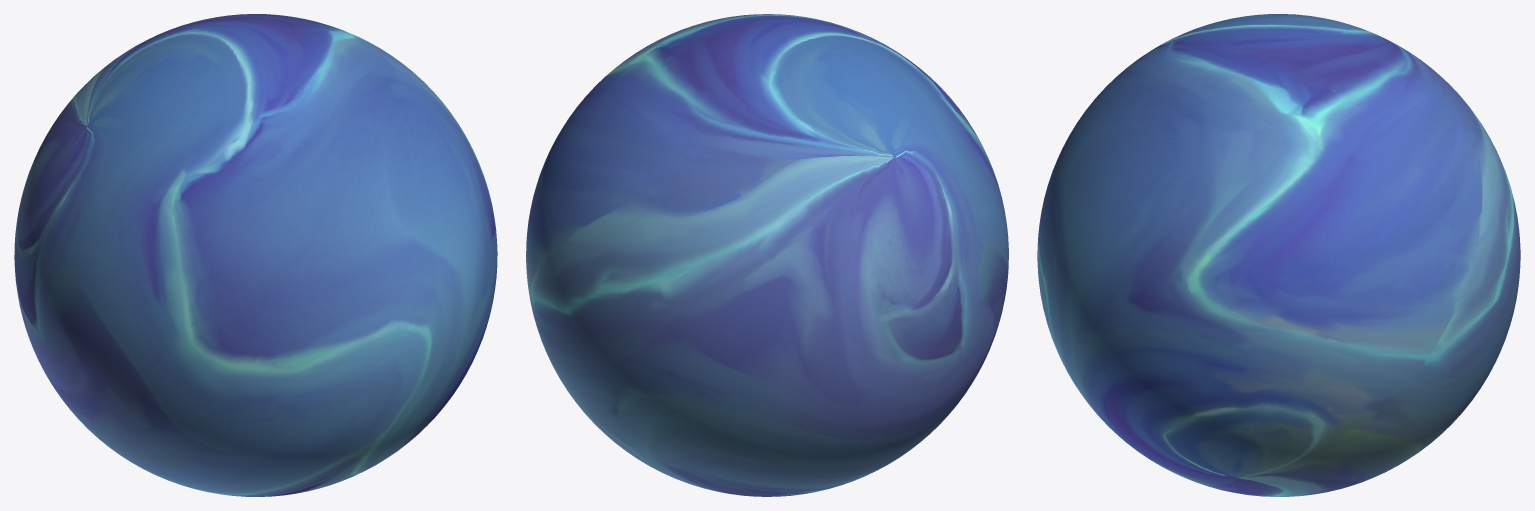
File: WATER.FBX
3 views of the same model, side by side, from view 1: azimuth 30°, elevation 25°; view 2: azimuth 150°, elevation 25°; view 3: azimuth 270°, elevation 25° (orthographic).
Visible parts, largest first — view 1: GeoSphere002; view 2: GeoSphere002; view 3: GeoSphere002.
Boxes of the visible parts, x1,y1,x2,y2 form: GeoSphere002: [14, 14, 497, 496]; GeoSphere002: [526, 14, 1008, 496]; GeoSphere002: [1037, 14, 1520, 496].
Bounding box in the file's own units: 35.58 × 35.57 × 35.57.
